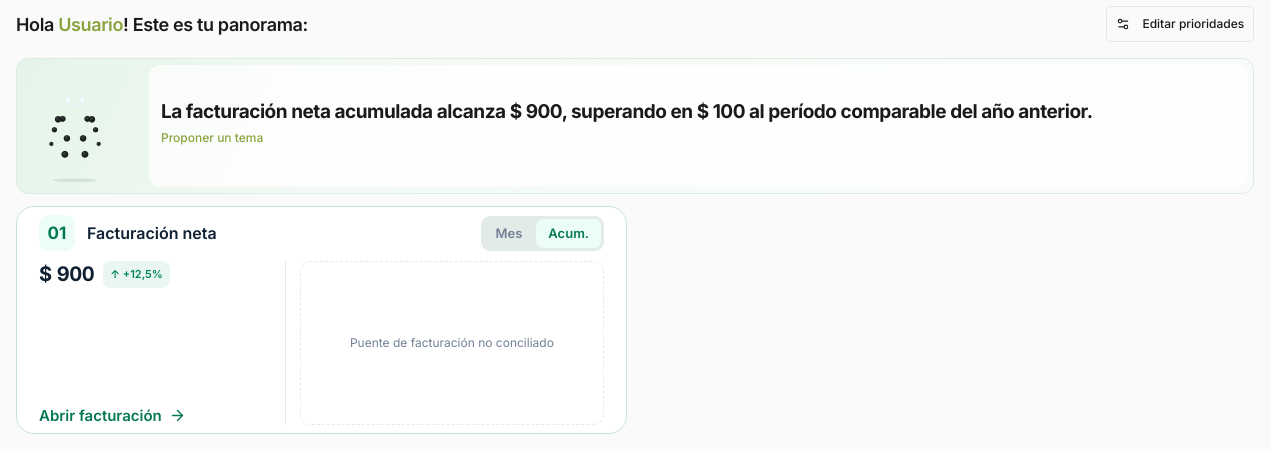
automatic calendar period shared with Campi › defaults to accumulated during first five business days and keeps badge on the selected period
Check: the element named "Campi" shows "La facturación neta acumulada alcanza $ 900", box [161, 100, 1092, 123]
Check: the text "$ 900" is shown, box [39, 263, 94, 286]
Click the button "Mes" at (509, 233), box [484, 218, 534, 248]
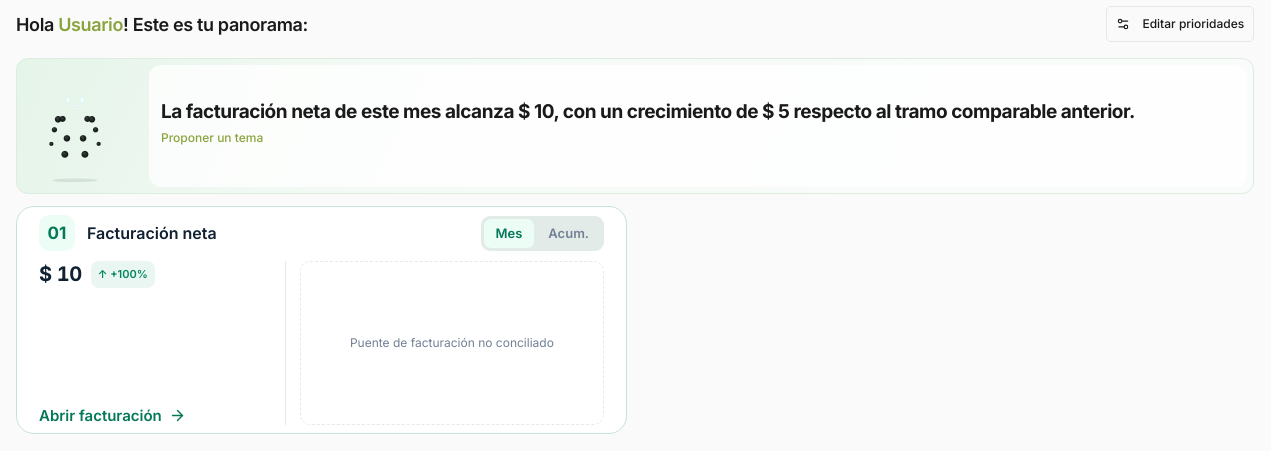
Check: the element named "Campi" does not show "última jornada", box [16, 58, 1254, 194]
Check: the element named "Campi" shows "La facturación neta de este mes alcanza $ 10", box [161, 100, 1135, 123]
